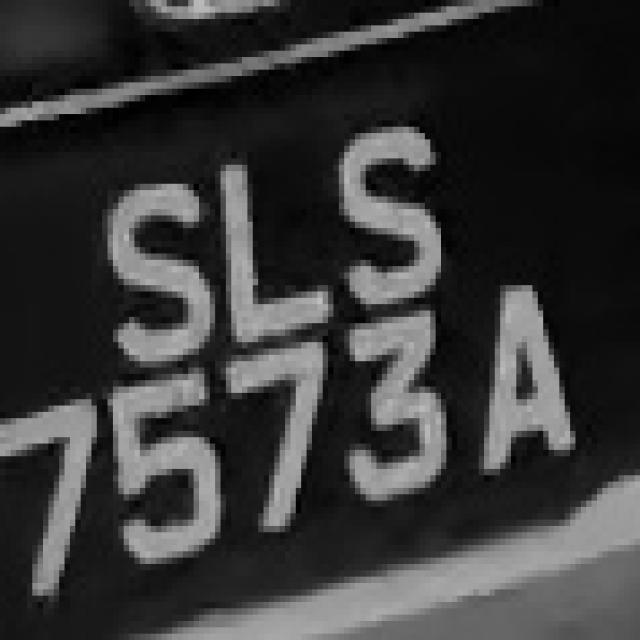3: (344, 298, 446, 513)
5: (81, 355, 226, 564)
7: (220, 323, 339, 545), (0, 374, 108, 615)
A: (446, 254, 592, 501)
L: (194, 133, 328, 349)
S: (323, 95, 446, 330), (86, 165, 215, 380)
